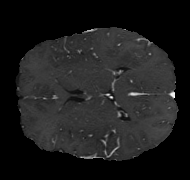Edema: (94, 29, 168, 76)
EnhancingTumors: (119, 34, 169, 72)
Necrosis: (118, 35, 169, 72)
